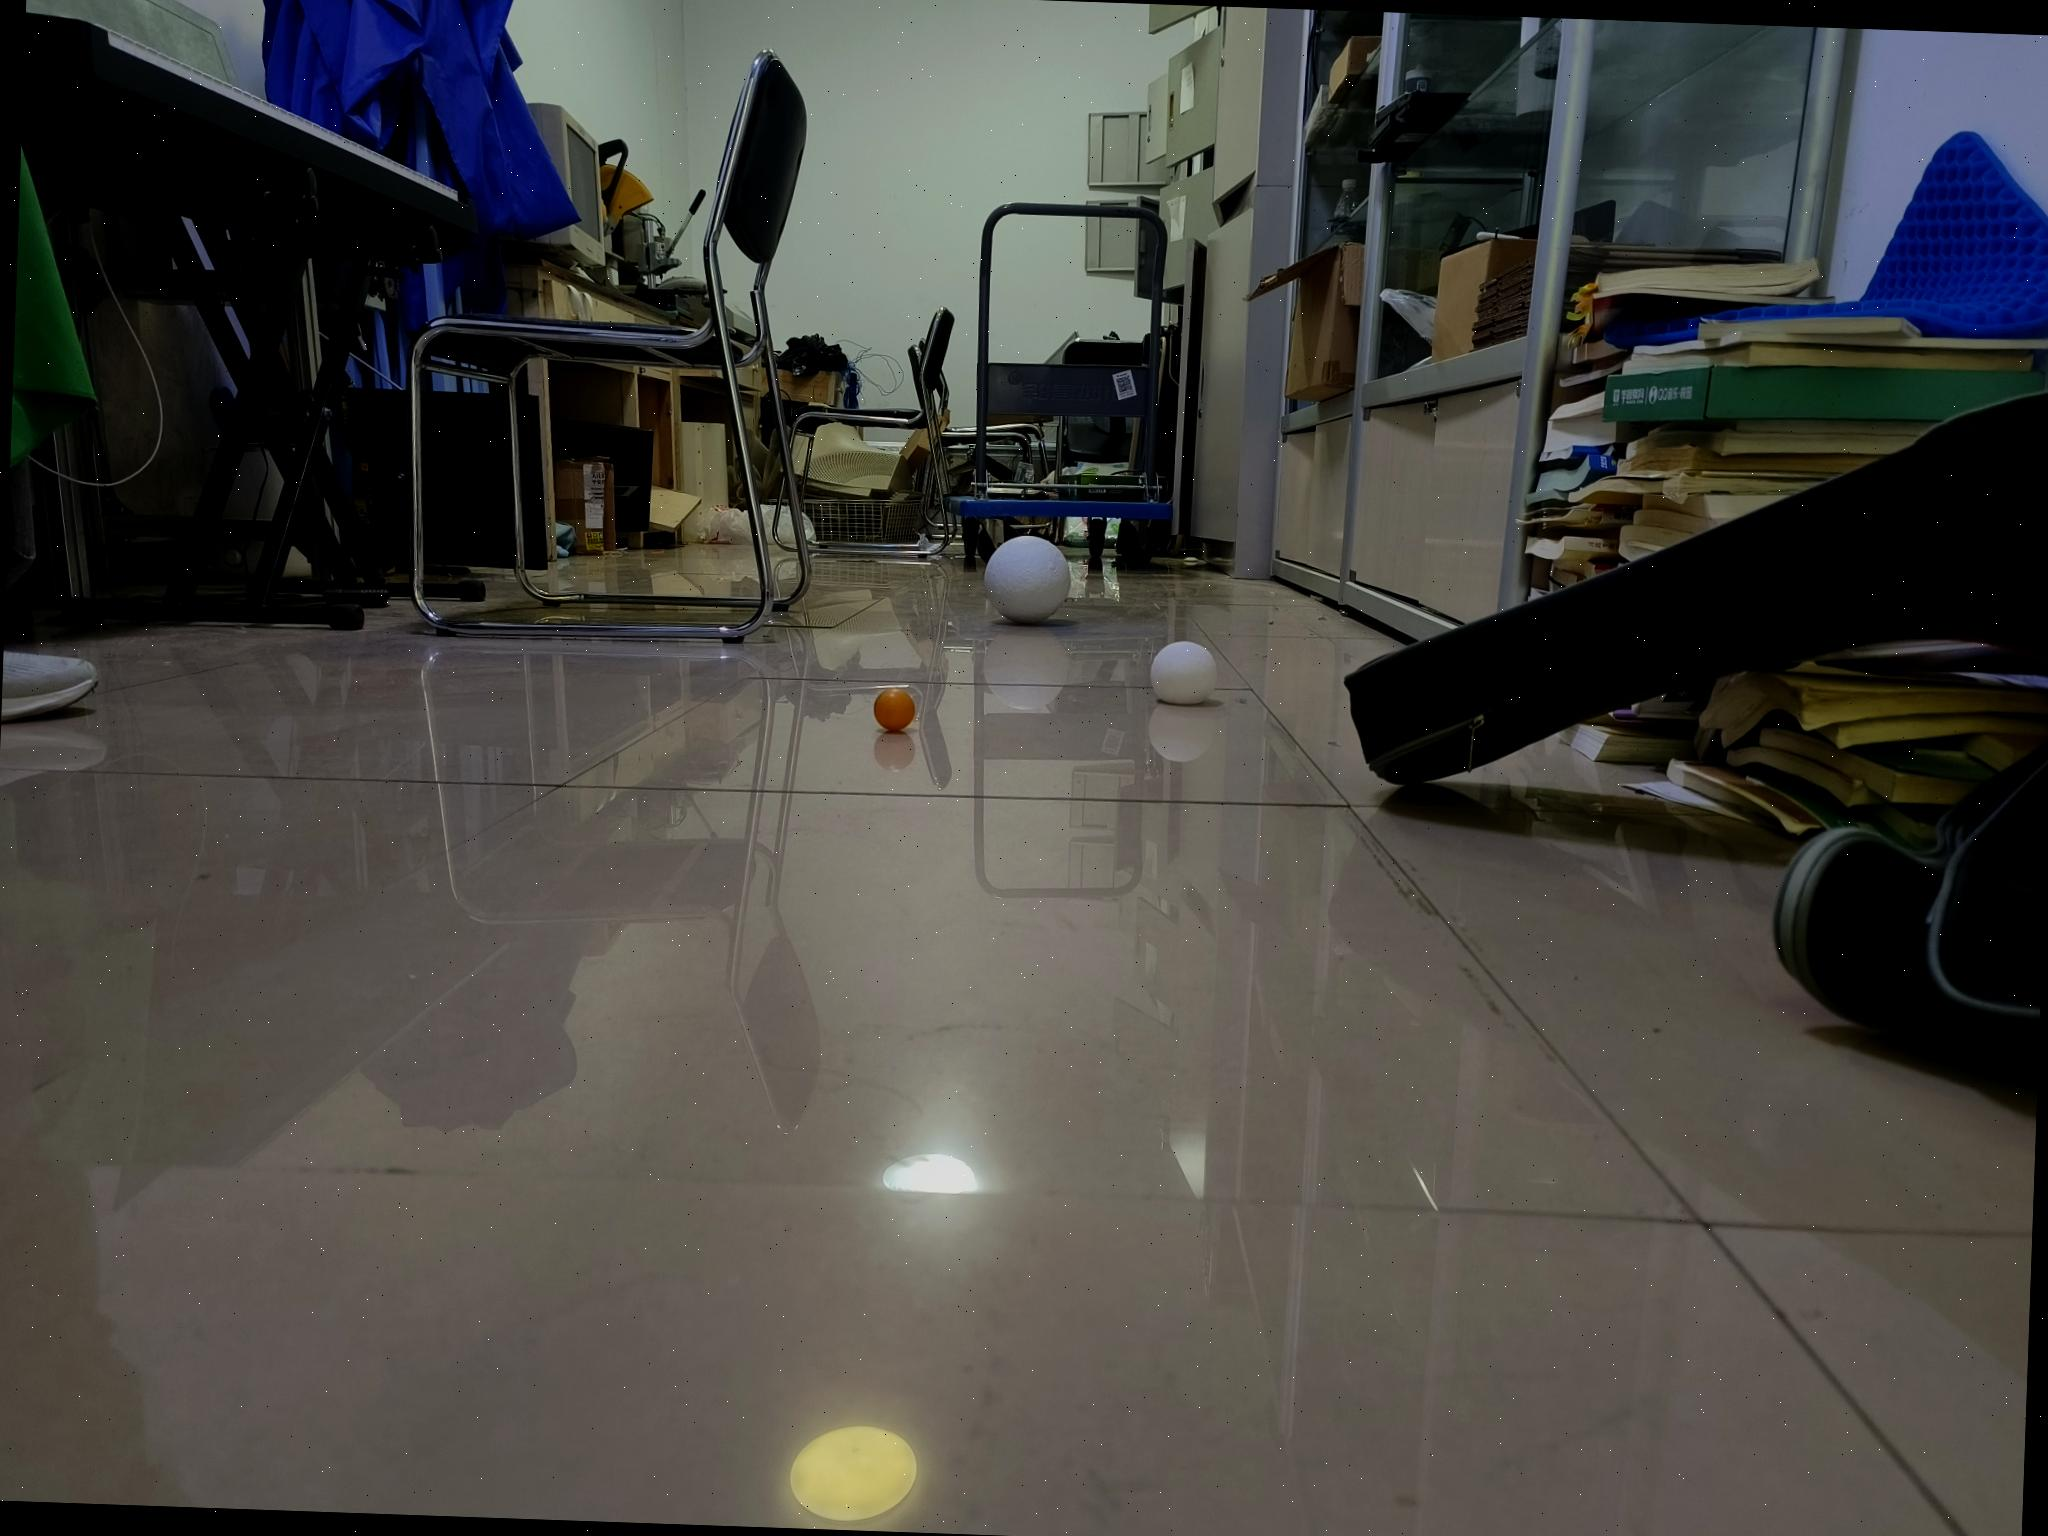ball: (872, 689, 914, 733)
